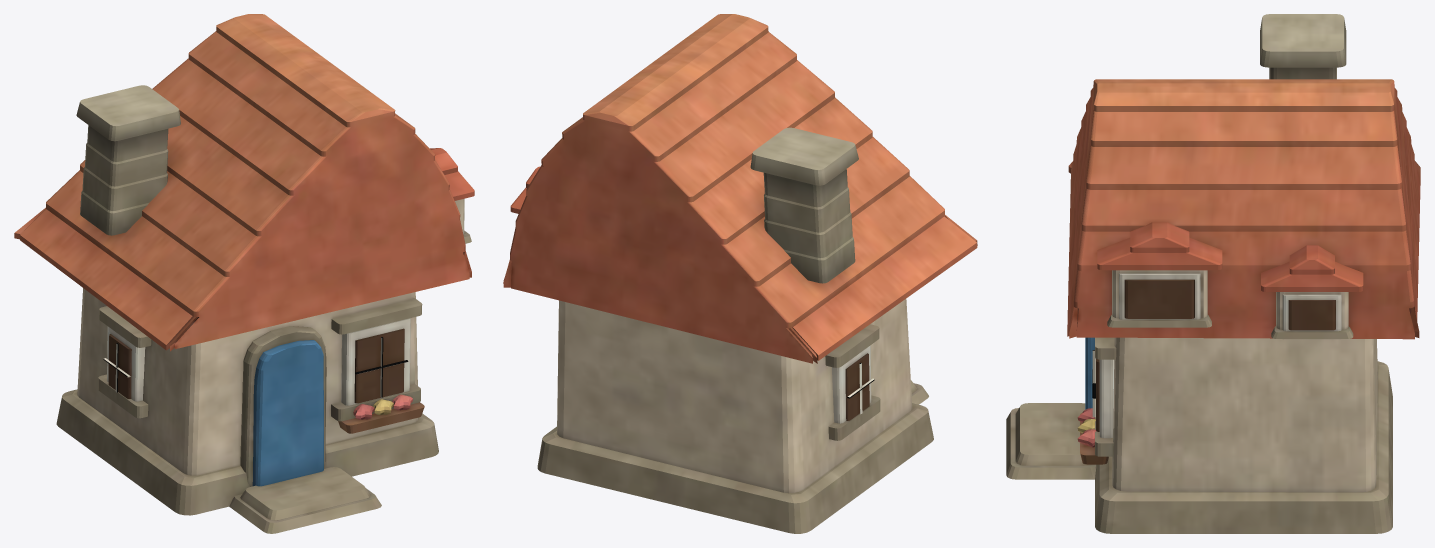
Rendered from foundation_cottage.glb.
3 views of the same model, side by side, from view 1: azimuth 30°, elevation 25°; view 2: azimuth 150°, elevation 25°; view 3: azimuth 270°, elevation 25° (orthographic). The views are drawn at different scales.
Visible parts, largest first — view 1: Cottage; view 2: Cottage; view 3: Cottage.
Part boxes in pixels (x1,y1,x2,y2): Cottage: (14, 14, 474, 533); Cottage: (503, 14, 977, 533); Cottage: (1006, 14, 1420, 533).
Bounding box in the file's own units: 3.72 × 3.95 × 3.64.
1 material, 1 textured.
